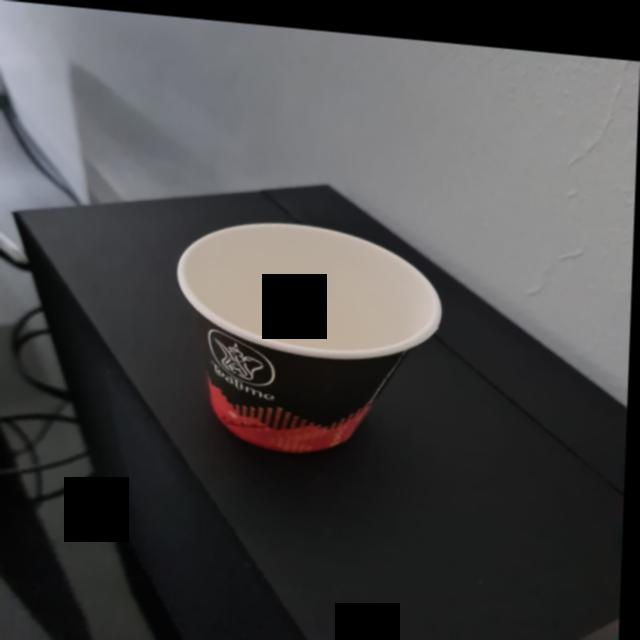cups: (159, 205, 460, 473)
